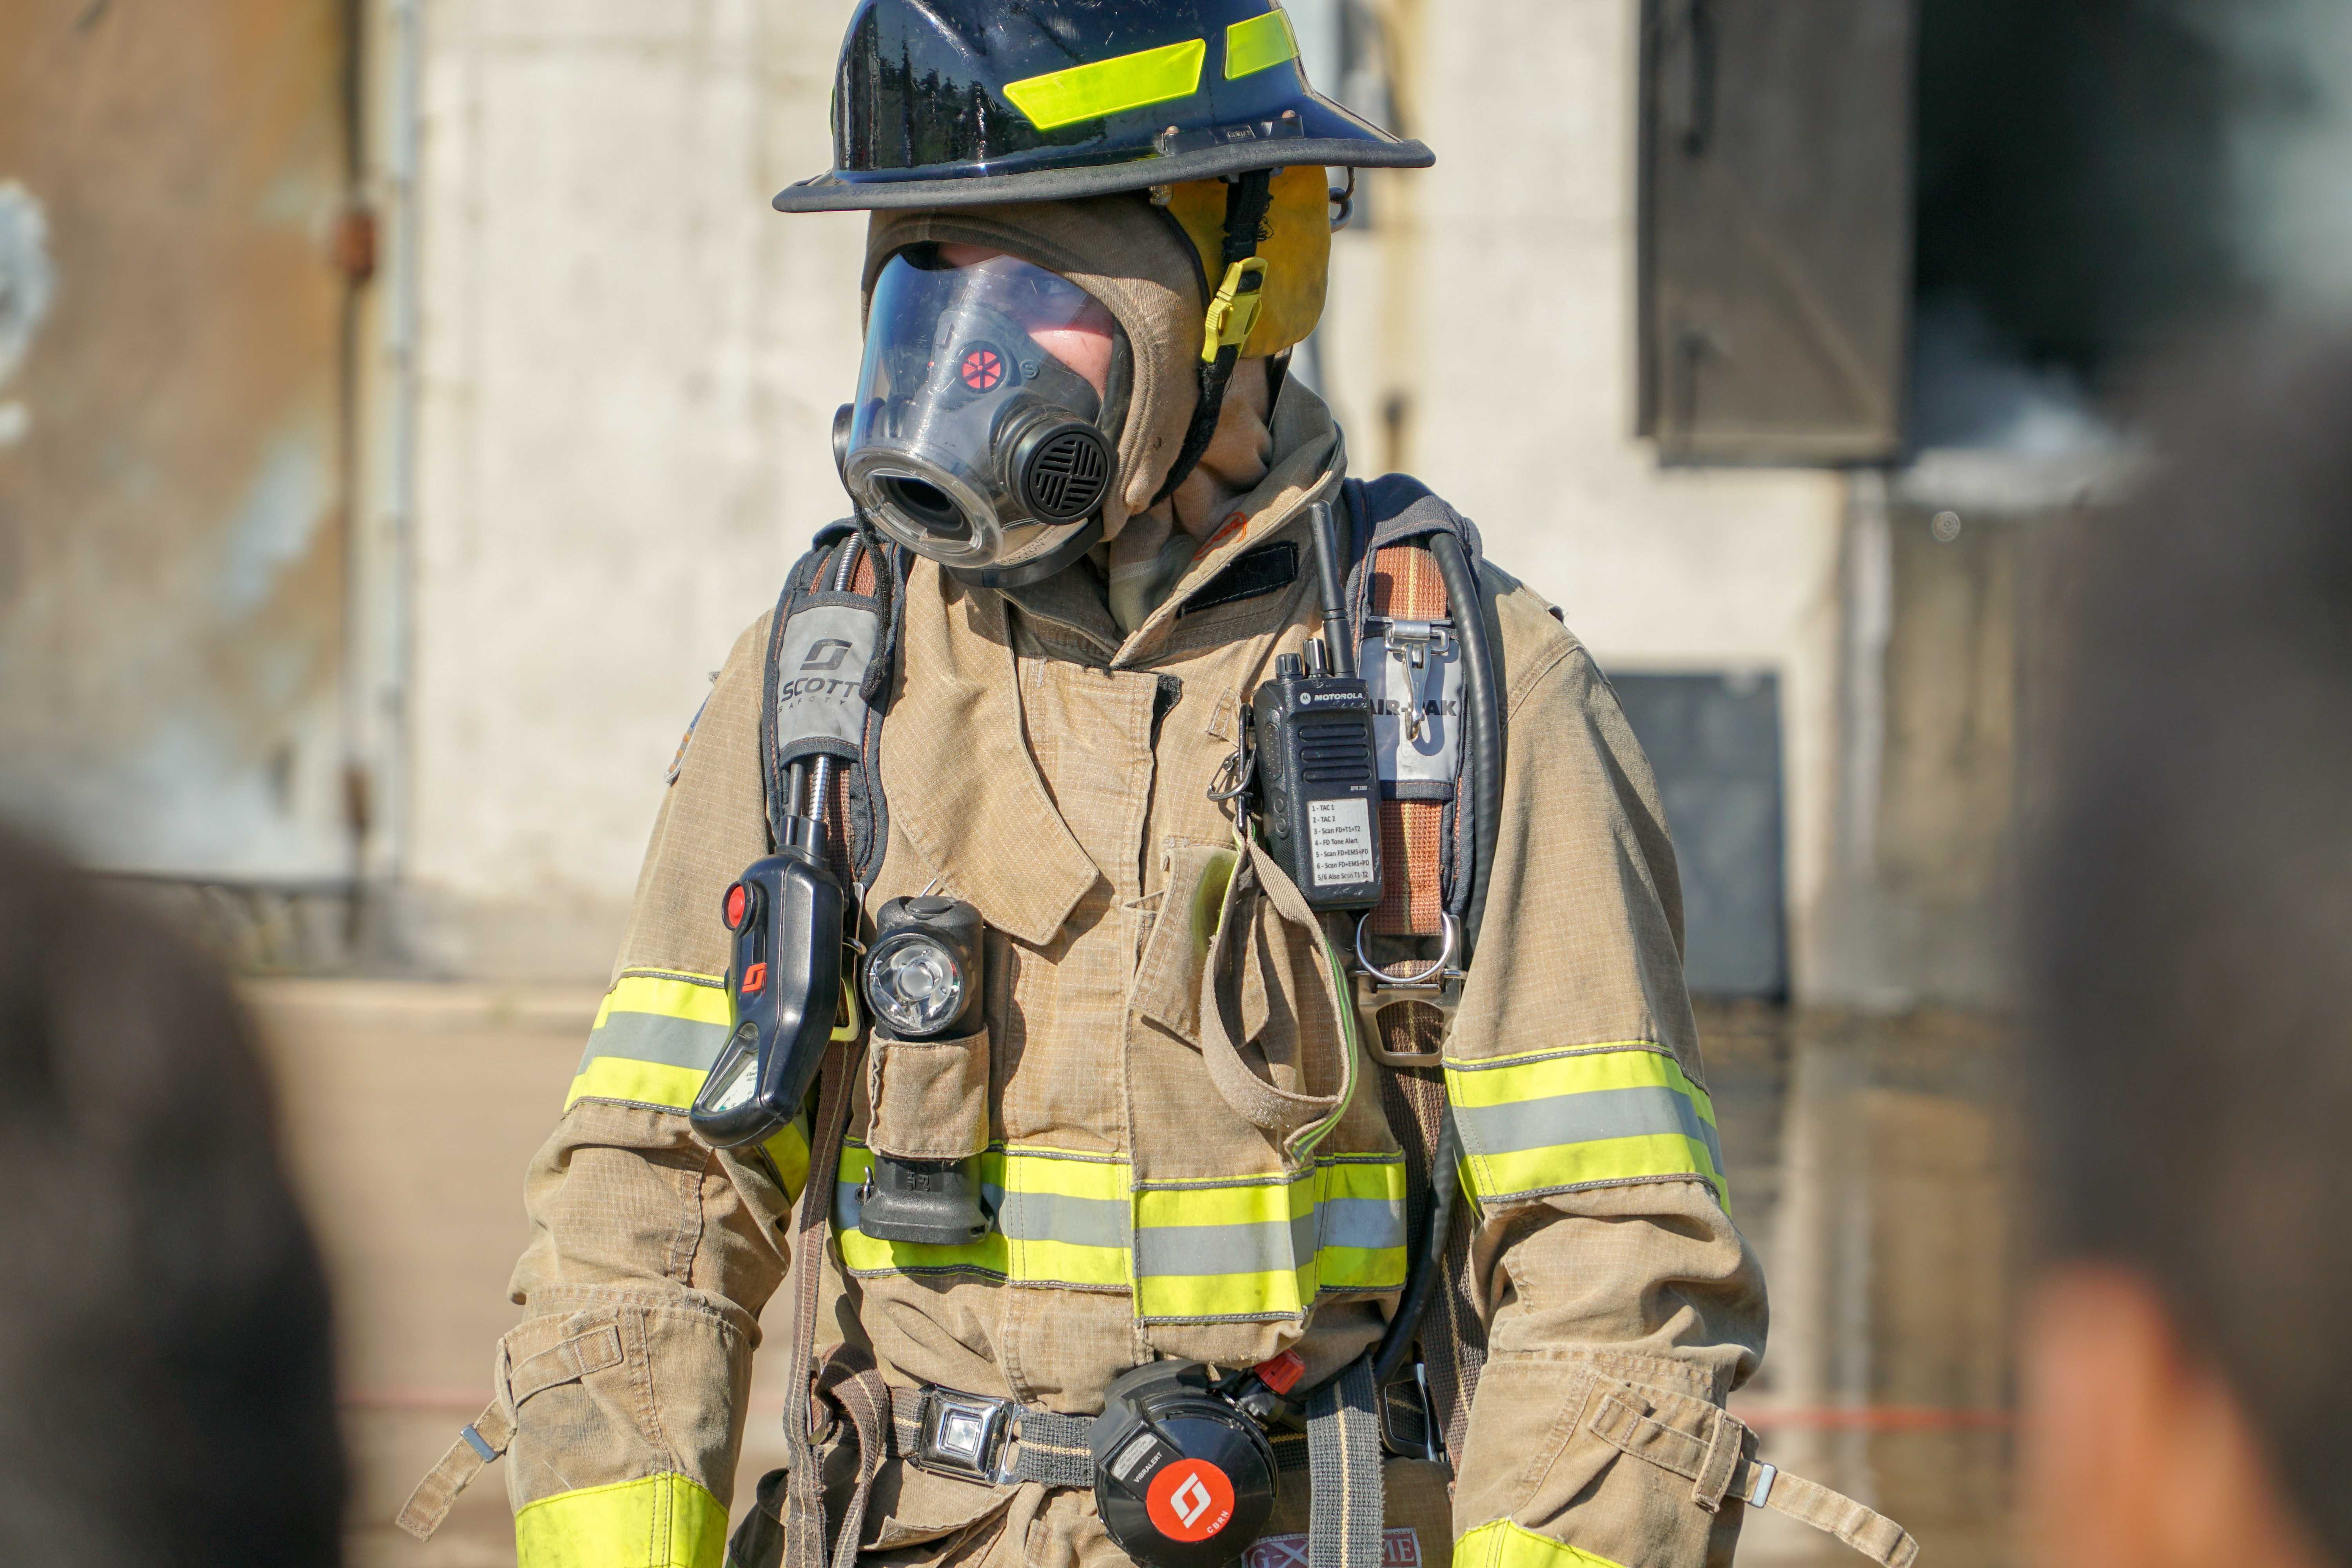emergent: (546, 7, 1764, 1568)
